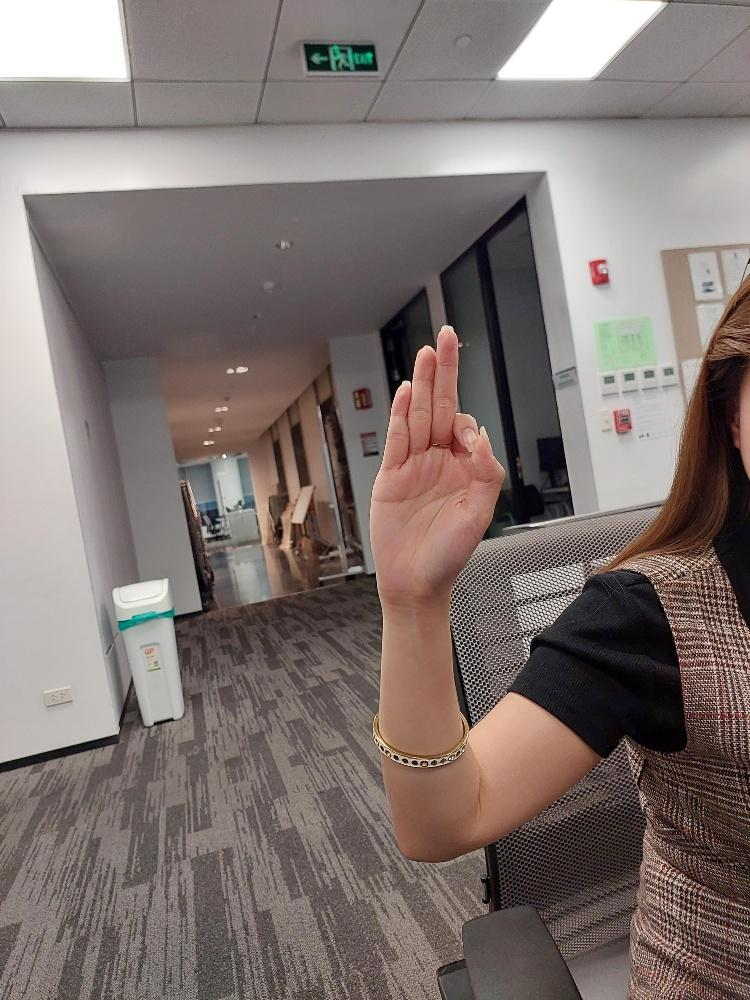f: (365, 320, 509, 605)
